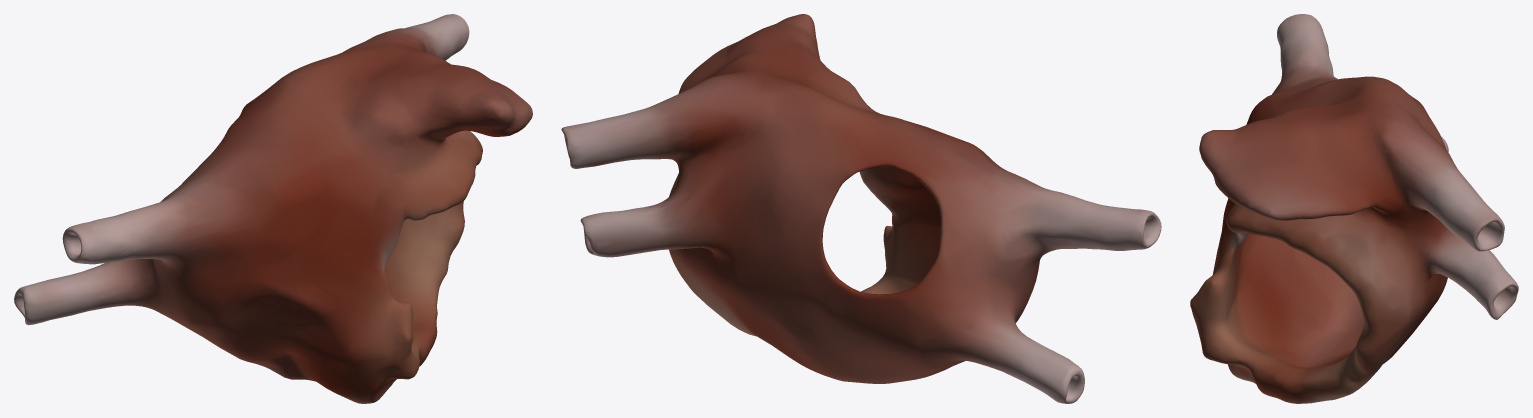
File: AtrioEsquerdo.fbx
3 renders of one model, left to right at view 1: azimuth 30°, elevation 25°; view 2: azimuth 150°, elevation 25°; view 3: azimuth 270°, elevation 25°, orthographic. The views are drawn at different scales.
Parts seen in each view (by area): view 1: linker_atrium; view 2: linker_atrium; view 3: linker_atrium.
Part boxes in pixels (x1,y1,x2,y2): linker_atrium: (14,14,532,403); linker_atrium: (561,14,1161,403); linker_atrium: (1190,14,1518,403).
Bounding box in the file's own units: 1.16 × 0.6756 × 0.6535.
